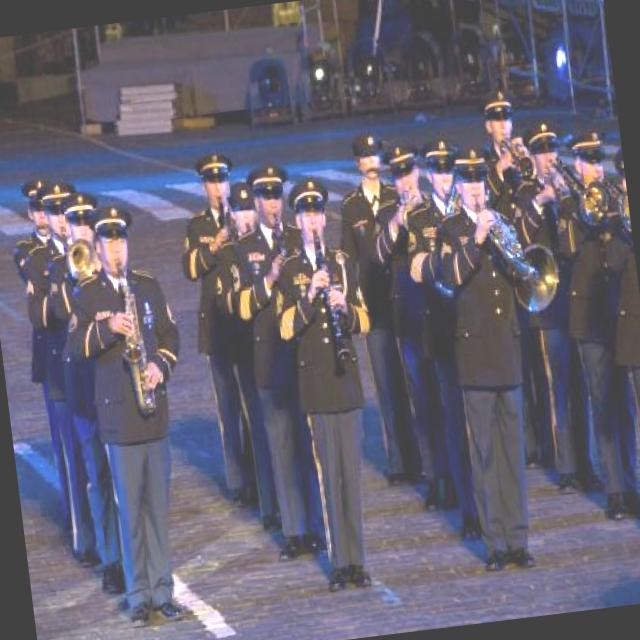Person: (43, 198, 218, 636), (420, 136, 560, 576), (260, 175, 396, 616), (218, 161, 342, 567), (392, 136, 504, 547), (36, 188, 148, 597), (8, 178, 122, 571), (504, 118, 619, 502), (358, 138, 470, 517), (166, 149, 280, 513), (542, 124, 640, 524), (328, 127, 434, 490), (470, 88, 568, 474), (213, 176, 297, 532), (590, 146, 640, 553)
